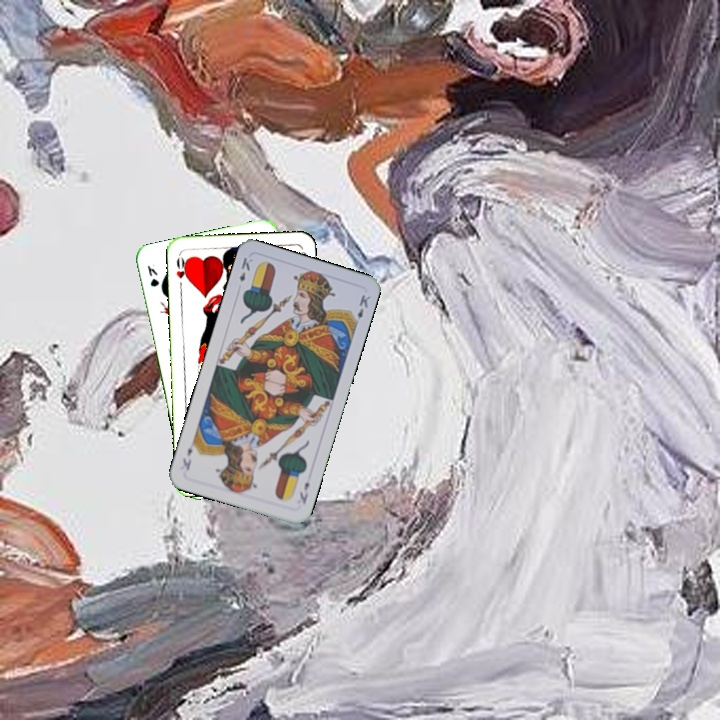EK: (235, 253, 255, 285), (295, 478, 312, 507)
GK: (143, 262, 162, 289)
HO: (172, 251, 191, 291)
